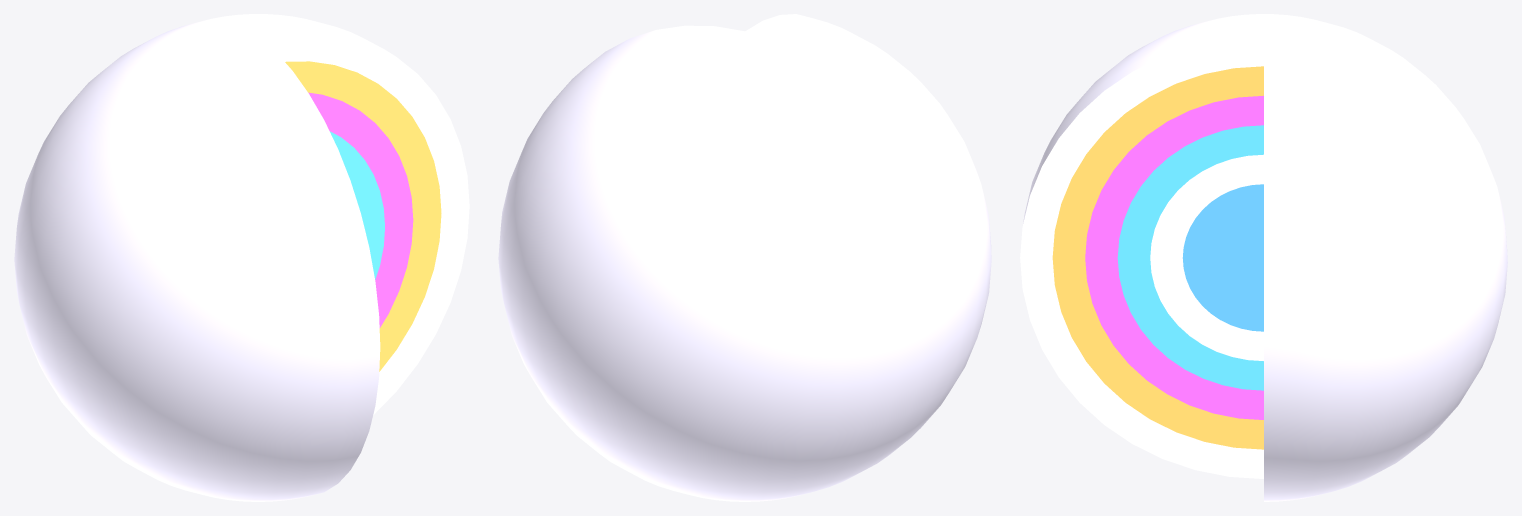
File: AtmosphereLayers_Q4W5.glb
The picture shows the model from 3 angles, left to right: view 1: azimuth 30°, elevation 25°; view 2: azimuth 150°, elevation 25°; view 3: azimuth 270°, elevation 25°; orthographic projection.
Visible parts, largest first — view 1: Exosphere, Thermosphere, Mesosphere, Stratosphere; view 2: Exosphere; view 3: Exosphere, Thermosphere, Mesosphere, Stratosphere, EarthCore, Troposphere.
Boxes of the visible parts, bbox=[...] form: Exosphere: bbox=[14, 14, 469, 501]; Thermosphere: bbox=[285, 61, 441, 371]; Mesosphere: bbox=[308, 92, 413, 327]; Stratosphere: bbox=[330, 131, 384, 279]; Exosphere: bbox=[498, 14, 991, 501]; Exosphere: bbox=[1020, 14, 1507, 501]; Thermosphere: bbox=[1052, 66, 1263, 449]; Mesosphere: bbox=[1085, 95, 1263, 419]; Stratosphere: bbox=[1117, 125, 1263, 390]; EarthCore: bbox=[1182, 184, 1263, 331]; Troposphere: bbox=[1150, 154, 1263, 360].
Bounding box in the file's own units: 0.2998 × 0.3 × 0.2998.
